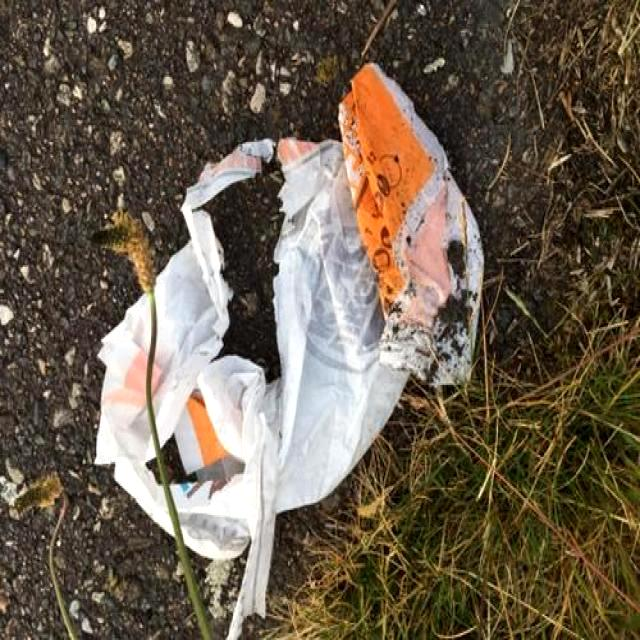Paper: (89, 58, 487, 640)
